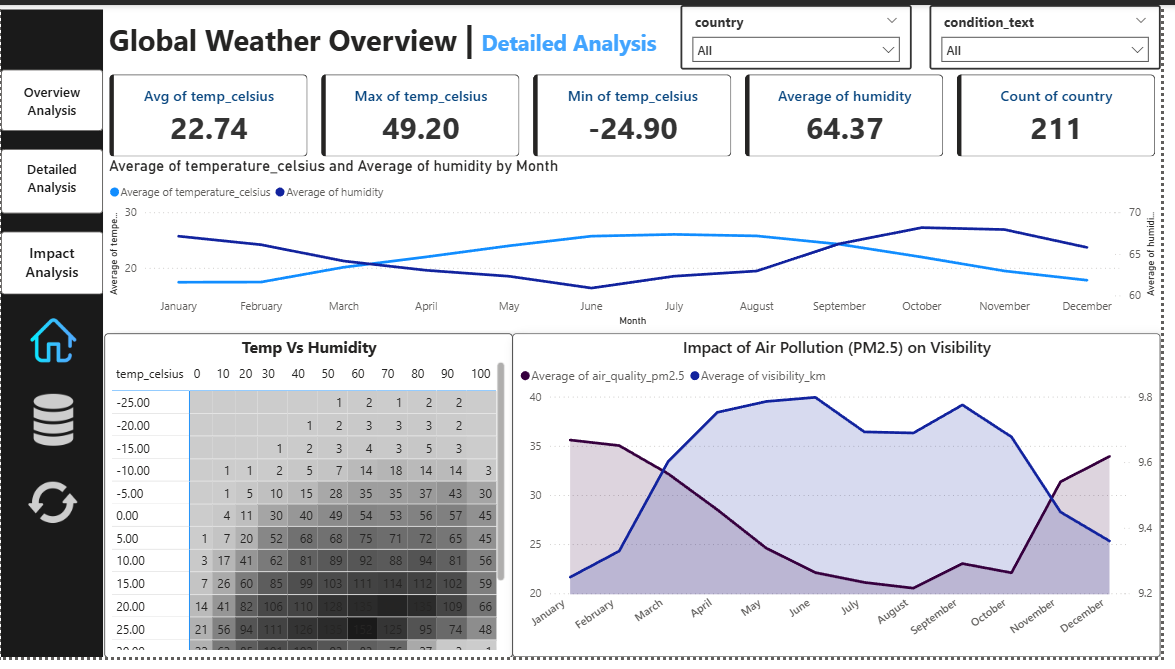

The dashboard page shown, as its layout file describes it:
{"tool":"powerbi","page":{"name":"Detailed","canvas":[1280,720],"ordinal":1},"visuals":[{"type":"textbox","box":[0,5,112.6,715.6],"z":0},{"type":"group","id":"g1","title":"Group 1","box":[0,71.2,112.6,159],"z":1000},{"type":"image","box":[22.6,339.6,69.6,61.3],"z":2000},{"type":"image","box":[23.2,424.1,69.6,67.9],"z":3000},{"type":"image","box":[21.5,516.8,71.2,64.6],"z":4000},{"type":"textbox","box":[114.3,5,659.3,66.3],"z":5000},{"type":"slicer","fields":{"Values":["Cleaned_Climatescoop.country"]},"box":[750.4,0,255.1,71.2],"z":6000},{"type":"slicer","fields":{"Values":["Cleaned_Climatescoop.condition_text"]},"box":[1024.9,0,255.1,71.2],"z":7000},{"type":"actionButton","box":[0,71.2,112.6,67.9],"z":8000,"group":"g1"},{"type":"cardVisual","fields":{"Data":["Avg(Cleaned_Climatescoop.temperature_celsius)","Max(Cleaned_Climatescoop.temperature_celsius)1","Min(Cleaned_Climatescoop.temperature_celsius)2","Avg(Cleaned_Climatescoop.humidity)","Count(Cleaned_Climatescoop.country)"]},"box":[113.8,71.2,1166.2,101],"z":8000},{"type":"actionButton","box":[0.1,158.9,112.6,71.3],"z":9000,"group":"g1"},{"type":"pivotTable","title":"Temp Vs Humidity","fields":{"Rows":["Cleaned_Climatescoop.temperature_celsius (bins)"],"Columns":["Cleaned_Climatescoop.humidity (bins)"],"Values":["Count(Cleaned_Climatescoop.country)"]},"box":[114.3,362.8,450.6,357.8],"z":9000},{"type":"actionButton","box":[0,250.1,112.6,69.6],"z":10000},{"type":"lineChart","fields":{"Category":["Cleaned_Climatescoop.last_updated.Variation.Date Hierarchy.Month"],"Y":["Avg(Cleaned_Climatescoop.temperature_celsius)"],"Y2":["Avg(Cleaned_Climatescoop.humidity)"]},"box":[114.3,167.3,1166.2,192.2],"z":11000},{"type":"lineChart","title":"Impact of Air Pollution (PM2.5) on Visibility","fields":{"Category":["Cleaned_Climatescoop.last_updated.Variation.Date Hierarchy.Month"],"Y":["Avg(Cleaned_Climatescoop.air_quality_pm2.5)"],"Y2":["Avg(Cleaned_Climatescoop.visibility_km)"]},"box":[565,363,715,357],"z":12000}]}

Visuals, with their boxes on the page's 1280x720 design canvas (x1, y1, x2, y2). These are canvas units, not pixel positions in the 1175x669 screenshot, which may show the page scaled, cropped or inside an application window:
textbox: [x1=0, y1=5, x2=113, y2=721]
"Group 1" group: [x1=0, y1=71, x2=113, y2=230]
image: [x1=23, y1=340, x2=92, y2=401]
image: [x1=23, y1=424, x2=93, y2=492]
image: [x1=22, y1=517, x2=93, y2=581]
textbox: [x1=114, y1=5, x2=774, y2=71]
slicer - Cleaned_Climatescoop.country: [x1=750, y1=0, x2=1006, y2=71]
slicer - Cleaned_Climatescoop.condition_text: [x1=1025, y1=0, x2=1280, y2=71]
actionButton: [x1=0, y1=71, x2=113, y2=139]
cardVisual - Avg(Cleaned_Climatescoop.temperature_celsius) x Max(Cleaned_Climatescoop.temperature_celsius)1: [x1=114, y1=71, x2=1280, y2=172]
actionButton: [x1=0, y1=159, x2=113, y2=230]
"Temp Vs Humidity" pivotTable: [x1=114, y1=363, x2=565, y2=721]
actionButton: [x1=0, y1=250, x2=113, y2=320]
lineChart - Cleaned_Climatescoop.last_updated.Variation.Date Hierarchy.Month x Avg(Cleaned_Climatescoop.temperature_celsius): [x1=114, y1=167, x2=1280, y2=360]
"Impact of Air Pollution (PM2.5) on Visibility" lineChart: [x1=565, y1=363, x2=1280, y2=720]
